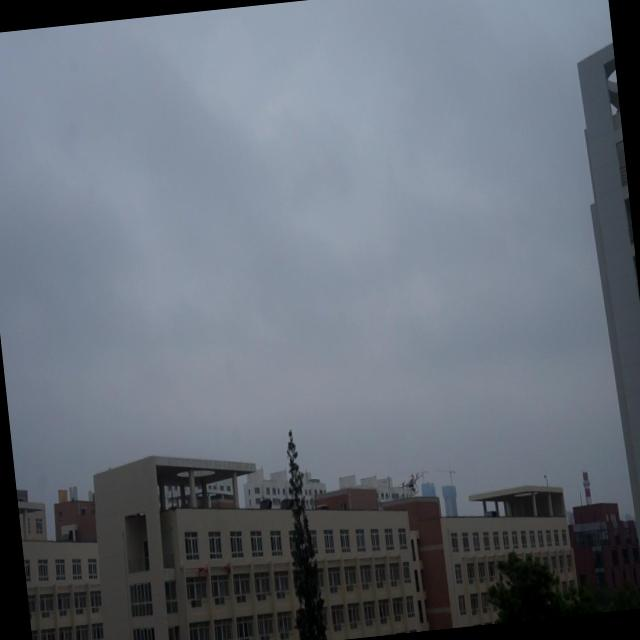drone: (398, 468, 423, 498)
